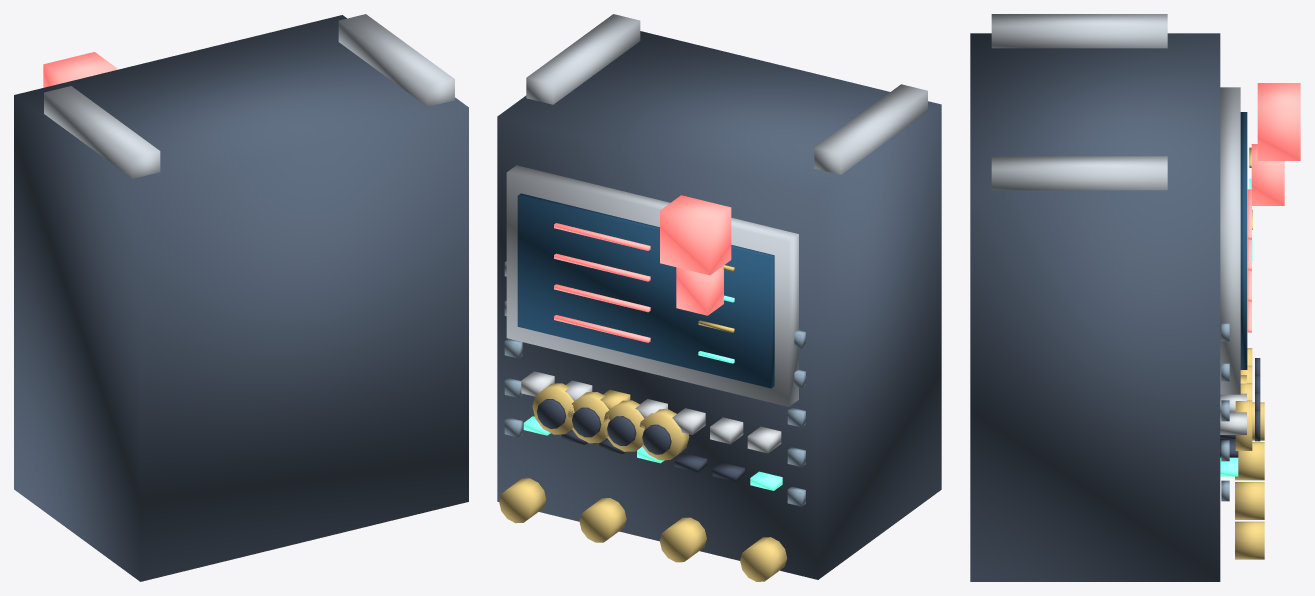
The model's file is L85_66_LiDARBlindSpotFaultEmulator_Fitted.fbx.
3 renders of one model, left to right at view 1: azimuth 30°, elevation 25°; view 2: azimuth 150°, elevation 25°; view 3: azimuth 270°, elevation 25°, orthographic. The views are drawn at different scales.
Parts seen in each view (by area): view 1: L85_LiDARBlindSpotFaultEmulator_Static__tint1A2434, L85_LiDARBlindSpotFaultEmulator_Static__tintA8B8C7, L85_LiDARBlindSpotFaultEmulator_ANIM_LIDAR_BLINDSPOT_FAULT__; view 2: L85_LiDARBlindSpotFaultEmulator_Static__tint1A2434, L85_LiDARBlindSpotFaultEmulator_Static__tint071C3B, L85_LiDARBlindSpotFaultEmulator_Static__tintA8B8C7, L85_LiDARBlindSpotFaultEmulator_Static__tintF7B83D, L85_LiDARBlindSpotFaultEmulator_ANIM_LIDAR_BLINDSPOT_FAULT__, L85_LiDARBlindSpotFaultEmulator_Static__tintFF3330, L85_LiDARBlindSpotFaultEmulator_Static__tint111724, L85_LiDARBlindSpotFaultEmulator_Static__tintCCD9E3, L85_LiDARBlindSpotFaultEmulator_Static__tint527391, L85_LiDARBlindSpotFaultEmulator_Static__tint24F09C; view 3: L85_LiDARBlindSpotFaultEmulator_Static__tint1A2434, L85_LiDARBlindSpotFaultEmulator_Static__tintA8B8C7, L85_LiDARBlindSpotFaultEmulator_Static__tintF7B83D, L85_LiDARBlindSpotFaultEmulator_ANIM_LIDAR_BLINDSPOT_FAULT__, L85_LiDARBlindSpotFaultEmulator_Static__tintFF3330, L85_LiDARBlindSpotFaultEmulator_Static__tint071C3B, L85_LiDARBlindSpotFaultEmulator_Static__tint527391, L85_LiDARBlindSpotFaultEmulator_Static__tintCCD9E3, L85_LiDARBlindSpotFaultEmulator_Static__tint111724.
Part boxes in pixels (x1,y1,x2,y2): L85_LiDARBlindSpotFaultEmulator_Static__tint1A2434: [14, 15, 468, 581]; L85_LiDARBlindSpotFaultEmulator_Static__tintA8B8C7: [44, 14, 454, 178]; L85_LiDARBlindSpotFaultEmulator_ANIM_LIDAR_BLINDSPOT_FAULT__: [43, 52, 116, 87]; L85_LiDARBlindSpotFaultEmulator_Static__tint1A2434: [497, 31, 941, 579]; L85_LiDARBlindSpotFaultEmulator_Static__tint071C3B: [517, 193, 774, 388]; L85_LiDARBlindSpotFaultEmulator_Static__tintA8B8C7: [506, 14, 927, 406]; L85_LiDARBlindSpotFaultEmulator_Static__tintF7B83D: [499, 265, 787, 581]; L85_LiDARBlindSpotFaultEmulator_ANIM_LIDAR_BLINDSPOT_FAULT__: [660, 195, 731, 275]; L85_LiDARBlindSpotFaultEmulator_Static__tintFF3330: [554, 223, 723, 342]; L85_LiDARBlindSpotFaultEmulator_Static__tint111724: [536, 399, 744, 481]; L85_LiDARBlindSpotFaultEmulator_Static__tintCCD9E3: [521, 371, 781, 453]; L85_LiDARBlindSpotFaultEmulator_Static__tint527391: [504, 261, 805, 506]; L85_LiDARBlindSpotFaultEmulator_Static__tint24F09C: [523, 295, 782, 490]; L85_LiDARBlindSpotFaultEmulator_Static__tint1A2434: [970, 33, 1220, 581]; L85_LiDARBlindSpotFaultEmulator_Static__tintA8B8C7: [991, 14, 1240, 394]; L85_LiDARBlindSpotFaultEmulator_Static__tintF7B83D: [1235, 147, 1264, 559]; L85_LiDARBlindSpotFaultEmulator_ANIM_LIDAR_BLINDSPOT_FAULT__: [1257, 83, 1300, 160]; L85_LiDARBlindSpotFaultEmulator_Static__tintFF3330: [1247, 144, 1284, 332]; L85_LiDARBlindSpotFaultEmulator_Static__tint071C3B: [1240, 112, 1247, 369]; L85_LiDARBlindSpotFaultEmulator_Static__tint527391: [1221, 323, 1229, 501]; L85_LiDARBlindSpotFaultEmulator_Static__tintCCD9E3: [1220, 393, 1246, 434]; L85_LiDARBlindSpotFaultEmulator_Static__tint111724: [1220, 358, 1260, 457].
Size of the model in its own units: 9.2 by 11.13 by 8.11.
